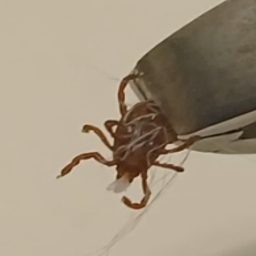Rhipicephalus sanguineus: (56, 74, 194, 210)
